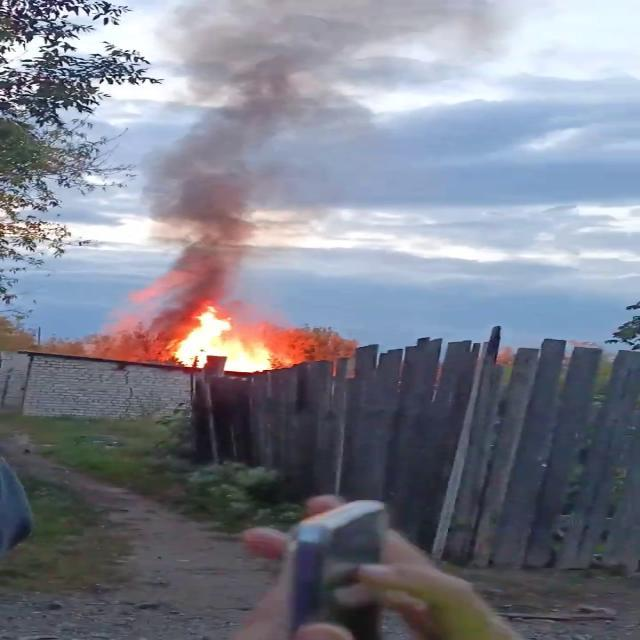Fire: (162, 305, 292, 373)
Smoke: (134, 0, 361, 299)
